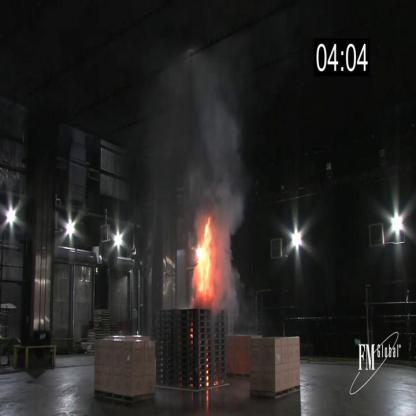fire: (197, 209, 215, 314)
